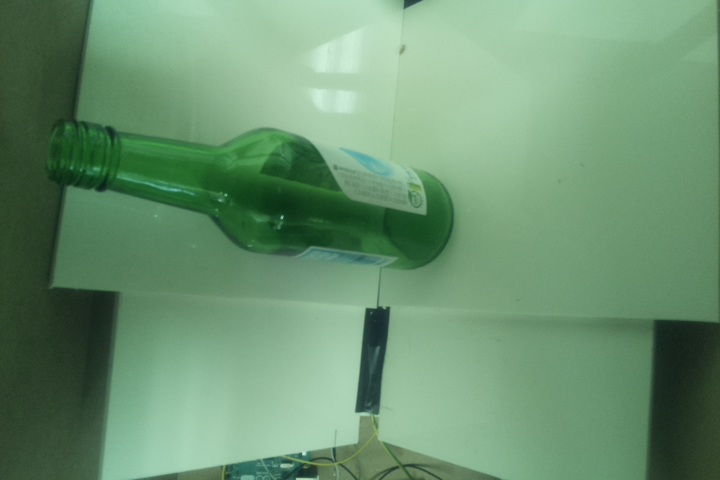soju: (43, 113, 455, 272)
